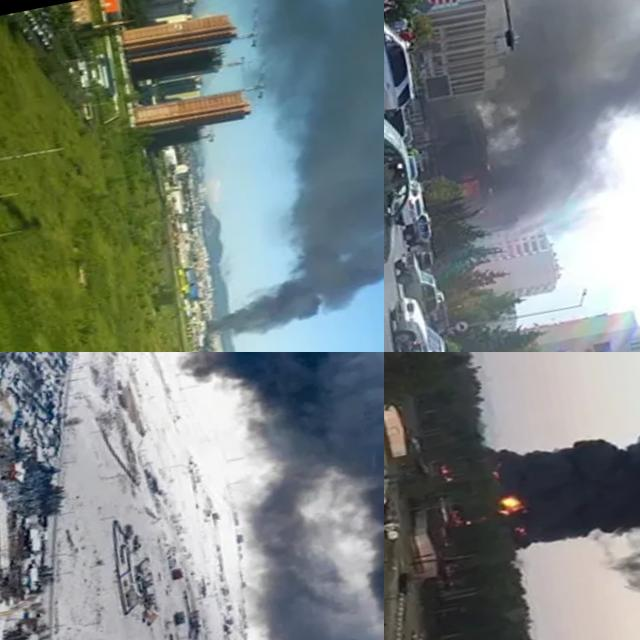smoke: (0, 352, 384, 640), (166, 82, 384, 347), (443, 0, 640, 248), (491, 388, 640, 640)
